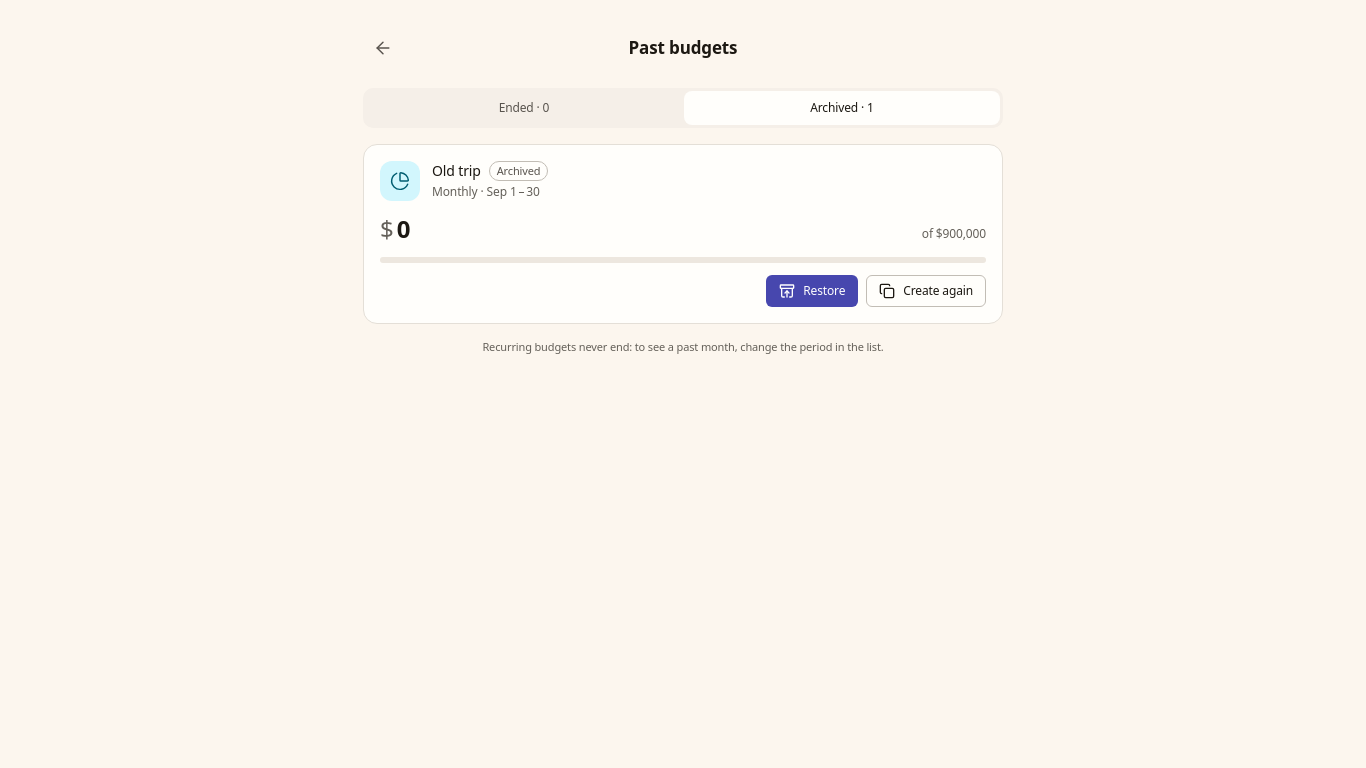
Test: PastBudgetsView › explains an overlapping restore with the active budget in the way
Click the button named "Restore Old trip": (812,291) 766,275 -> 858,307
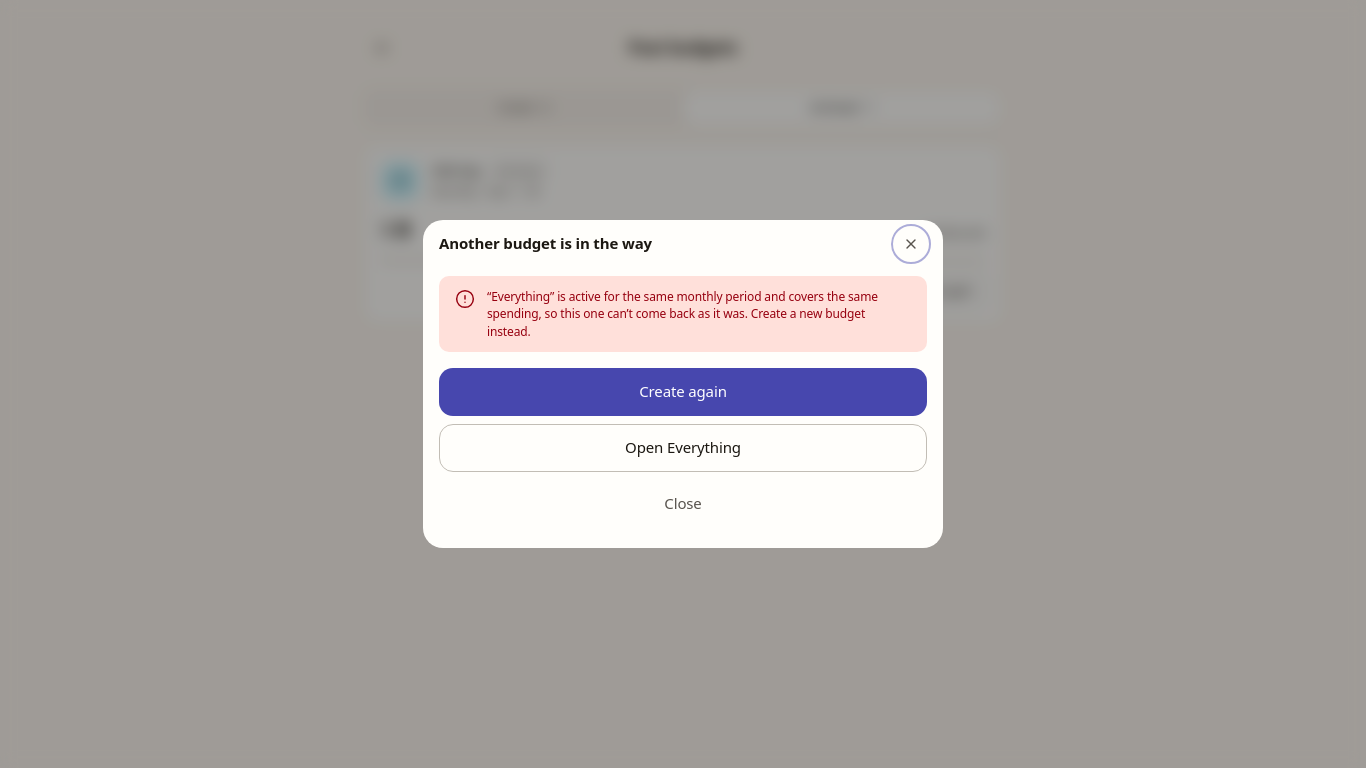
Check: the dialog "Another budget is in the way" shows "“Everything” is active for the same monthly period", box 487,288 -> 878,340
